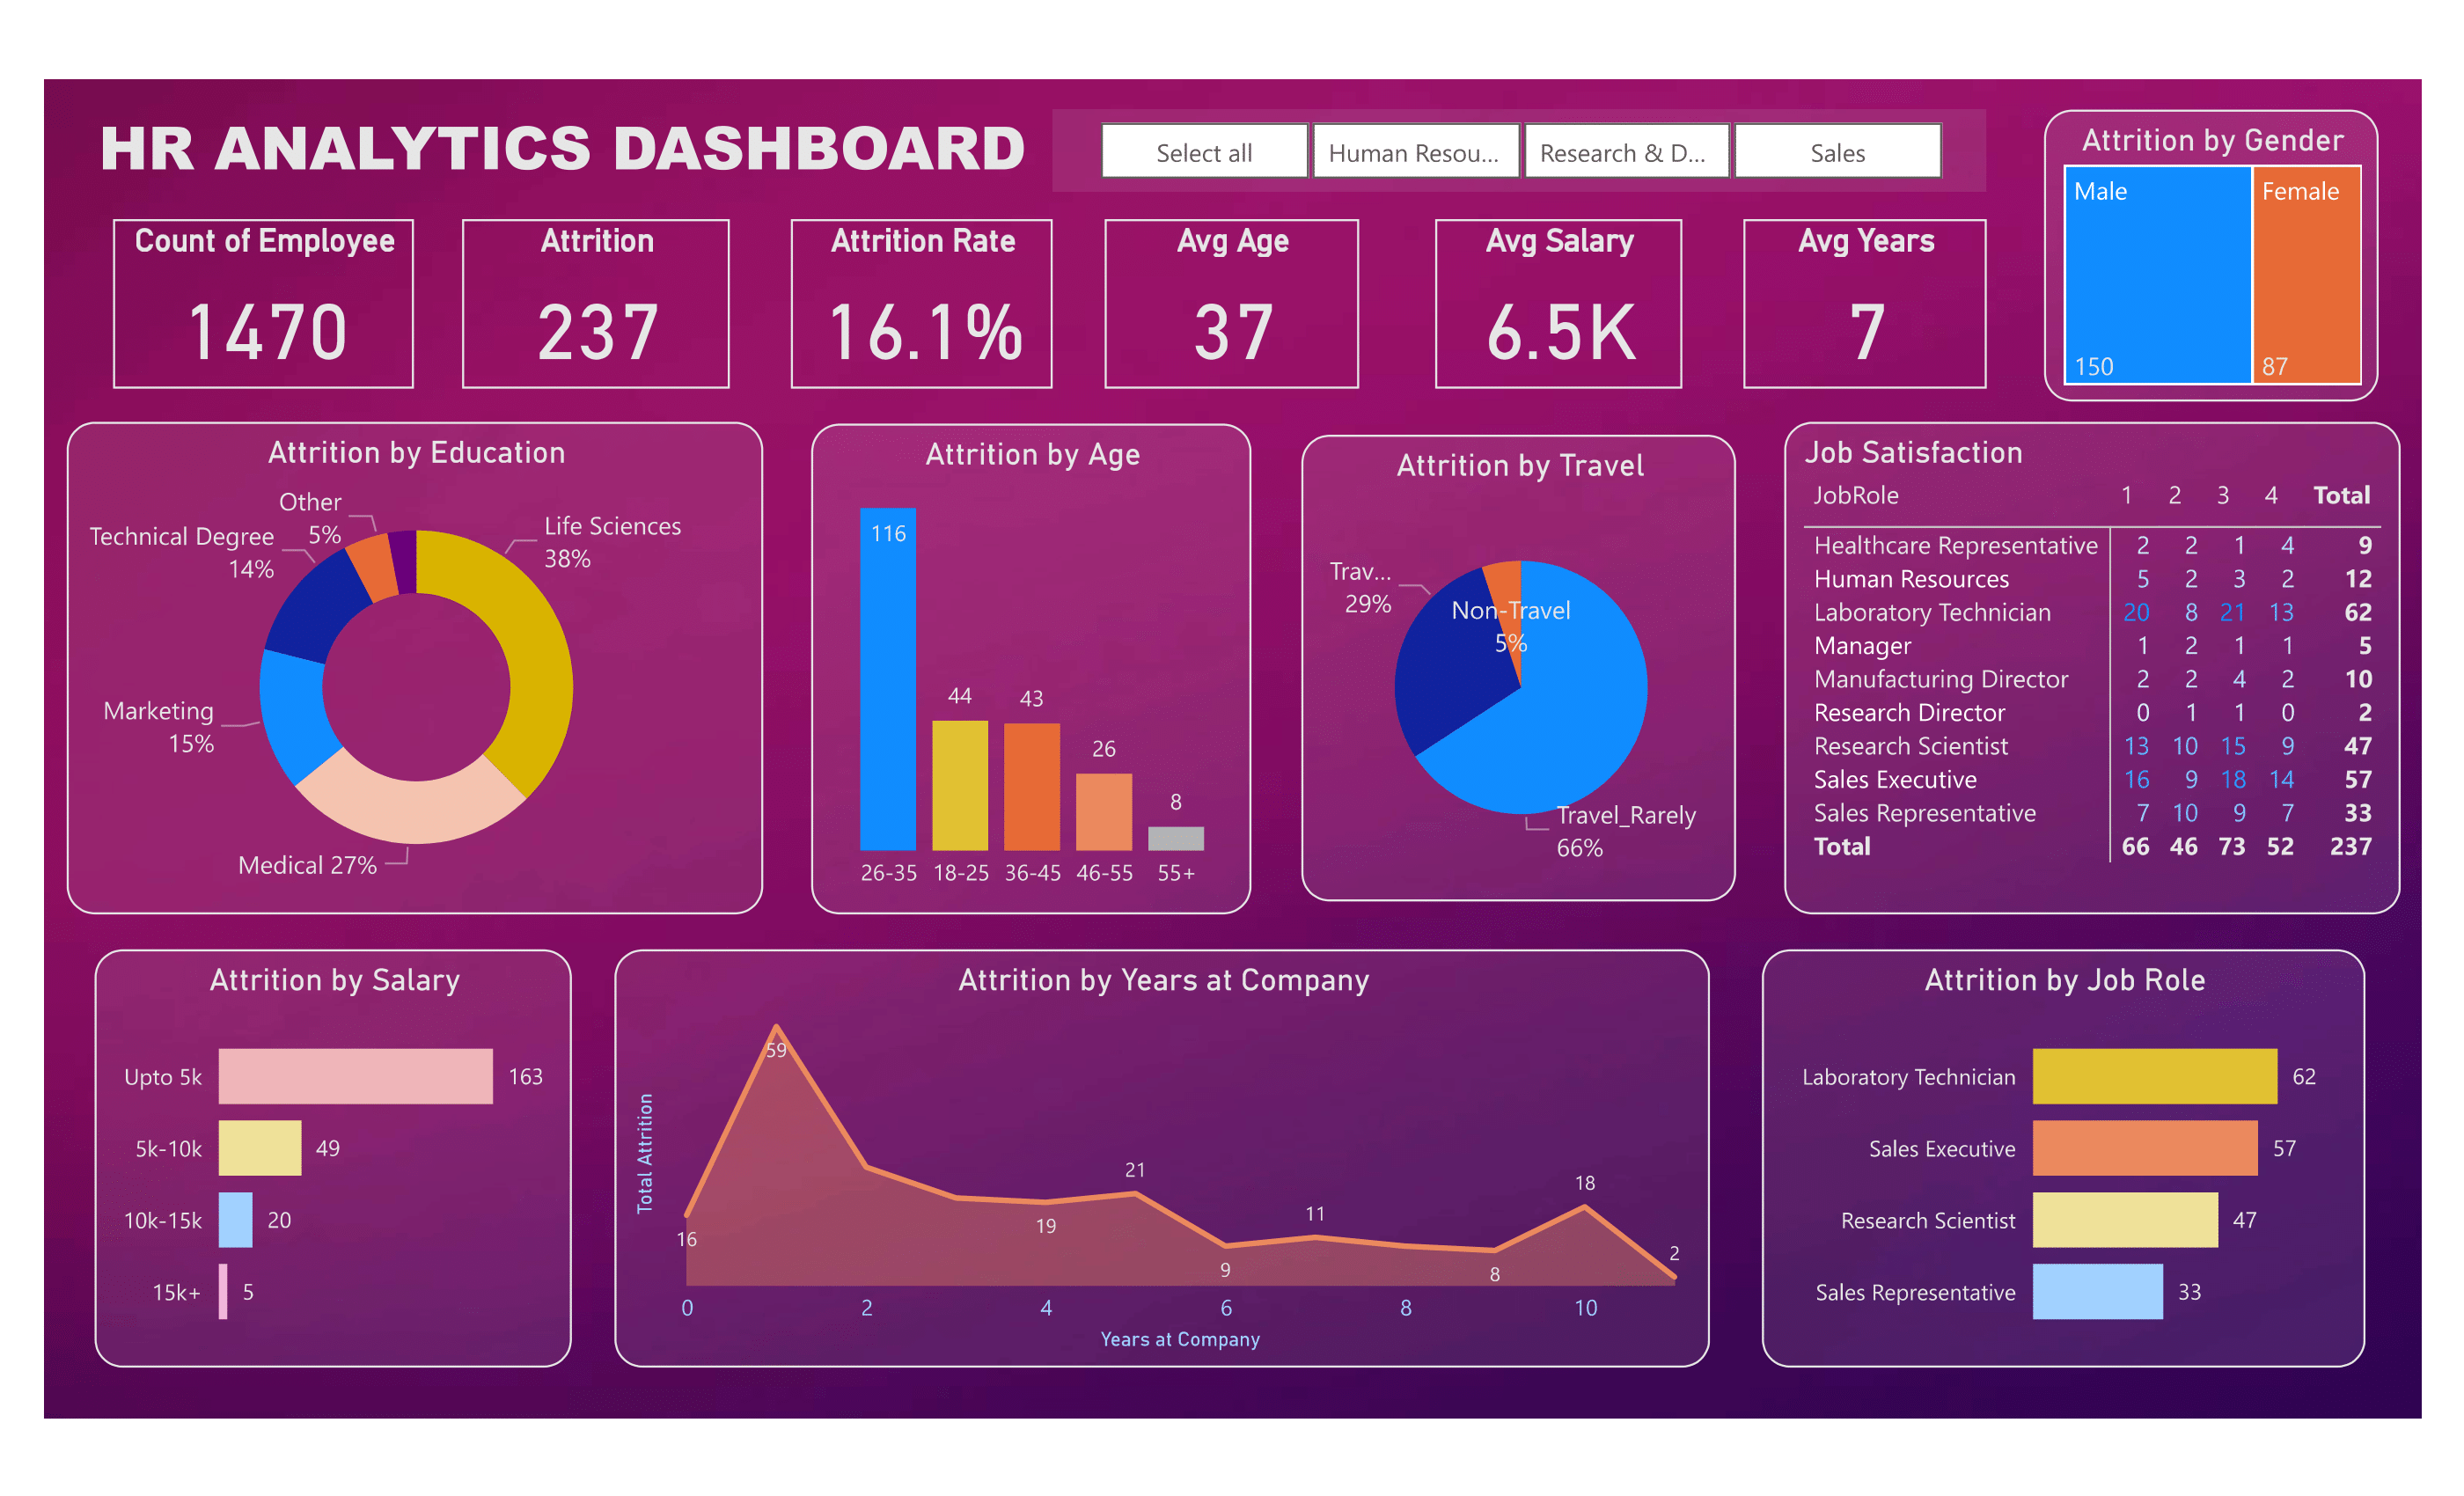

The dashboard page shown, as its layout file describes it:
{"tool":"powerbi","page":{"name":"Page 1","canvas":[1280,720],"ordinal":0},"visuals":[{"type":"card","title":"Count of Employee","fields":{"Values":["CountNonNull(HR_Analytics.EmpID)"]},"box":[37,75.5,161.9,90.6],"z":0},{"type":"card","title":"Attrition","fields":{"Values":["Sum(HR_Analytics.AttritionCount)"]},"box":[225,75.5,144.1,90.6],"z":1000},{"type":"card","title":"Attrition Rate","fields":{"Values":["HR_Analytics.Attrition Rate"]},"box":[402.1,75.5,141.3,90.6],"z":2000},{"type":"card","title":"Avg Age","fields":{"Values":["Avg(HR_Analytics.Age)"]},"box":[570.8,75.5,137.2,90.6],"z":3000},{"type":"card","title":"Avg Salary","fields":{"Values":["Avg(HR_Analytics.MonthlyIncome)"]},"box":[749.2,75.5,133.1,90.6],"z":4000},{"type":"card","title":"Avg Years ","fields":{"Values":["Avg(HR_Analytics.YearsAtCompany)"]},"box":[915.3,75.5,130.4,90.6],"z":5000},{"type":"donutChart","title":"Attrition by Education","fields":{"Category":["HR_Analytics.EducationField"],"Y":["Sum(HR_Analytics.AttritionCount)"]},"box":[12.3,183.9,374.6,264.8],"z":6000},{"type":"columnChart","title":"Attrition by Age","fields":{"Category":["HR_Analytics.AgeGroup"],"Y":["Sum(HR_Analytics.AttritionCount)"]},"box":[413,185.2,237.4,263.5],"z":7000},{"type":"pivotTable","title":"Job Satisfaction","fields":{"Rows":["HR_Analytics.JobRole"],"Values":["Sum(HR_Analytics.AttritionCount)"],"Columns":["HR_Analytics.JobSatisfaction"]},"box":[937.2,183.9,332.1,264.8],"z":8000},{"type":"barChart","title":"Attrition by Salary","fields":{"Category":["HR_Analytics.SalarySlab"],"Y":["Sum(HR_Analytics.AttritionCount)"]},"box":[27.4,467.9,256.6,225],"z":9000},{"type":"barChart","title":"Attrition by Job Role","fields":{"Y":["Sum(HR_Analytics.AttritionCount)"],"Category":["HR_Analytics.JobRole"]},"box":[924.9,467.9,325.2,225],"z":10000},{"type":"areaChart","title":"Attrition by Years at Company","fields":{"Category":["HR_Analytics.YearsAtCompany"],"Y":["Sum(HR_Analytics.AttritionCount)"]},"box":[307.4,467.9,590.1,225],"z":11000},{"type":"treemap","title":"Attrition by Gender","fields":{"Group":["HR_Analytics.Gender"],"Values":["Sum(HR_Analytics.AttritionCount)"]},"box":[1077.2,16.5,179.8,156.4],"z":12000},{"type":"slicer","fields":{"Values":["HR_Analytics.Department"]},"box":[543.4,16.5,502.2,43.9],"z":13000},{"type":"textbox","box":[15.1,8.2,528.3,60.4],"z":14000},{"type":"pieChart","title":"Attrition by Travel","fields":{"Y":["Sum(HR_Analytics.AttritionCount)"],"Category":["HR_Analytics.BusinessTravel"]},"box":[676.5,190.7,234.6,251.1],"z":15000}]}

Visuals, with their boxes on the page's 1280x720 design canvas (x1, y1, x2, y2). These are canvas units, not pixel positions in the 2464x1496 screenshot, which may show the page scaled, cropped or inside an application window:
"Count of Employee" card: (left=37, top=76, right=199, bottom=166)
"Attrition" card: (left=225, top=76, right=369, bottom=166)
"Attrition Rate" card: (left=402, top=76, right=543, bottom=166)
"Avg Age" card: (left=571, top=76, right=708, bottom=166)
"Avg Salary" card: (left=749, top=76, right=882, bottom=166)
"Avg Years " card: (left=915, top=76, right=1046, bottom=166)
"Attrition by Education" donutChart: (left=12, top=184, right=387, bottom=449)
"Attrition by Age" columnChart: (left=413, top=185, right=650, bottom=449)
"Job Satisfaction" pivotTable: (left=937, top=184, right=1269, bottom=449)
"Attrition by Salary" barChart: (left=27, top=468, right=284, bottom=693)
"Attrition by Job Role" barChart: (left=925, top=468, right=1250, bottom=693)
"Attrition by Years at Company" areaChart: (left=307, top=468, right=898, bottom=693)
"Attrition by Gender" treemap: (left=1077, top=16, right=1257, bottom=173)
slicer - HR_Analytics.Department: (left=543, top=16, right=1046, bottom=60)
textbox: (left=15, top=8, right=543, bottom=69)
"Attrition by Travel" pieChart: (left=676, top=191, right=911, bottom=442)
